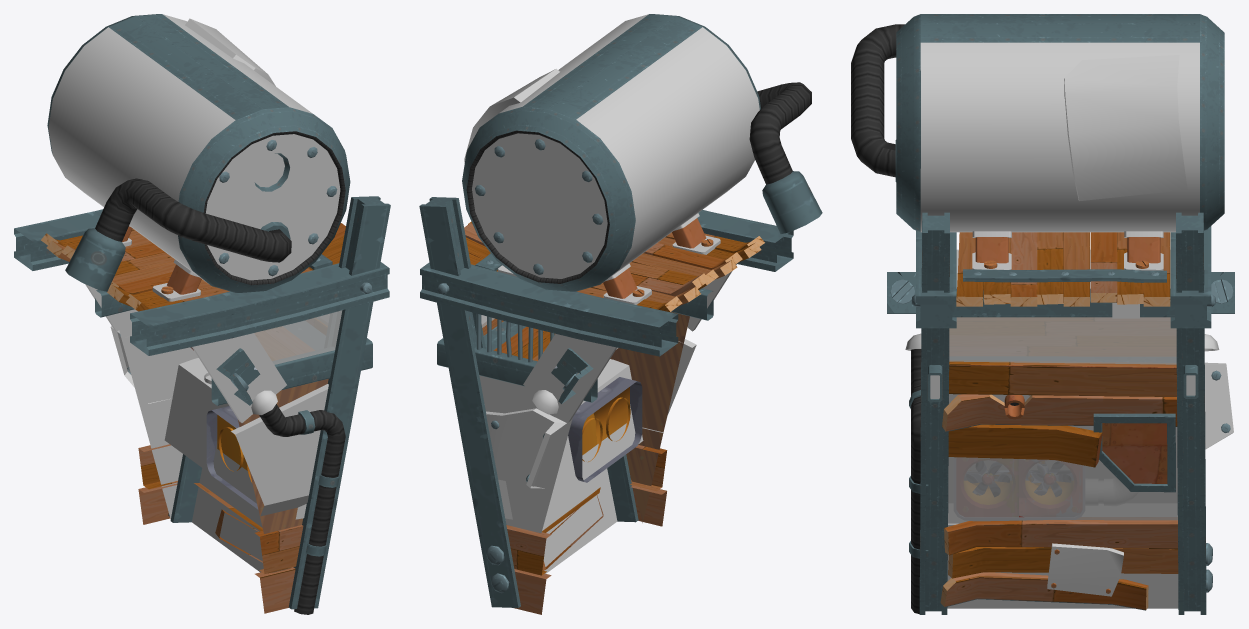
Rendered from env_hideout_tower.fbx.
The picture shows the model from 3 angles, left to right: view 1: azimuth 30°, elevation 25°; view 2: azimuth 150°, elevation 25°; view 3: azimuth 270°, elevation 25°; orthographic projection. The views are drawn at different scales.
Parts seen in each view (by area): view 1: polySurface2451; view 2: polySurface2451; view 3: polySurface2451.
Part boxes in pixels (bbox=[...]): polySurface2451: bbox=[14, 14, 390, 614]; polySurface2451: bbox=[419, 14, 822, 614]; polySurface2451: bbox=[851, 14, 1234, 614].
Bounding box in the file's own units: 68.82 × 112 × 68.95.
